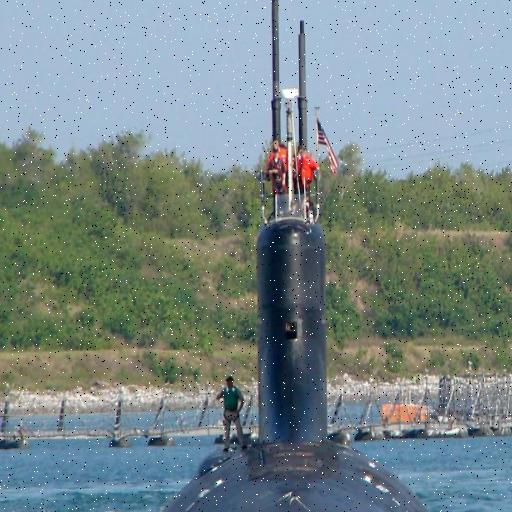submarine: (150, 1, 444, 512)
